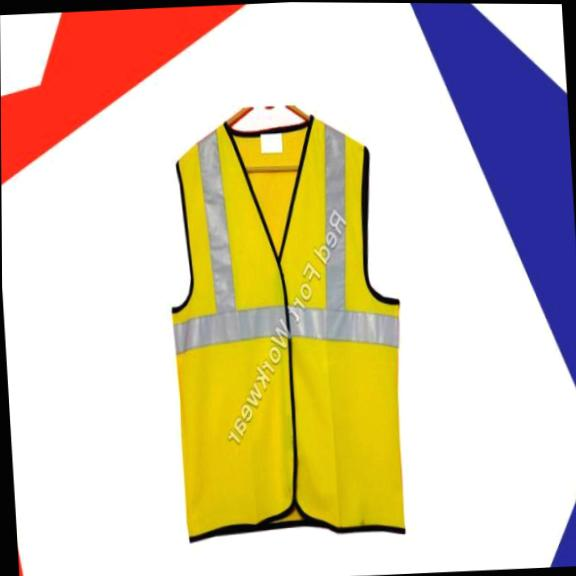safety_vest: (160, 104, 417, 547)
